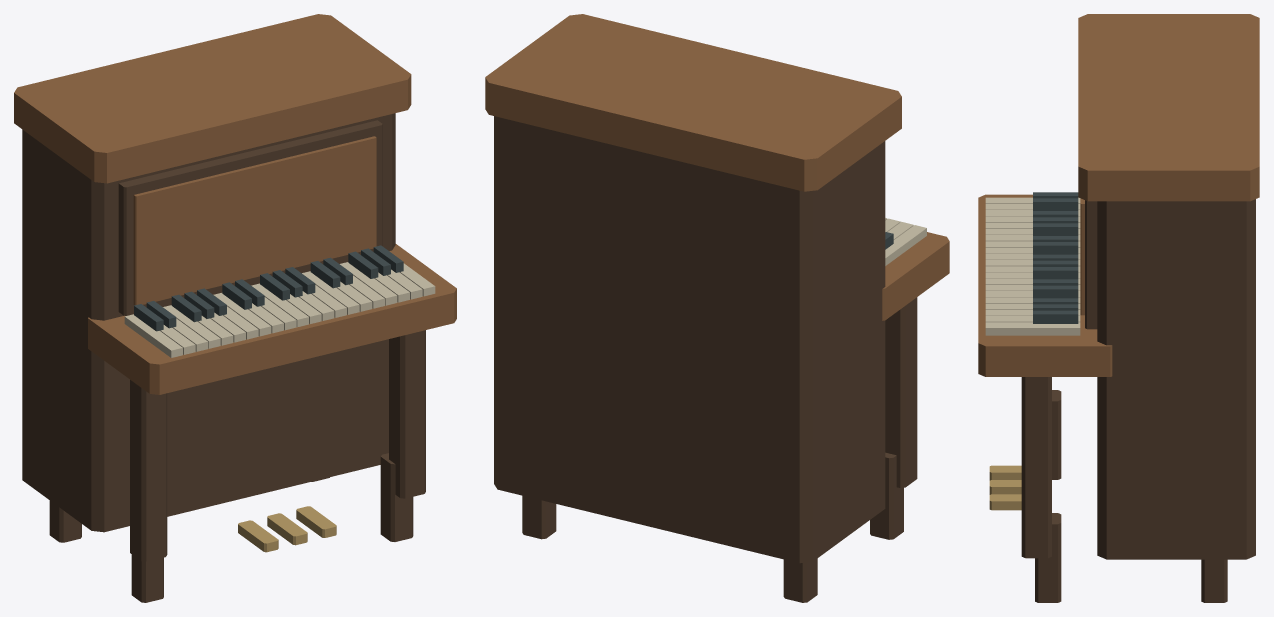
The model's file is piano_upright.glb.
3 views of the same model, side by side, from view 1: azimuth 30°, elevation 25°; view 2: azimuth 150°, elevation 25°; view 3: azimuth 270°, elevation 25° (orthographic). The views are drawn at different scales.
Parts seen in each view (by area): view 1: geometry; view 2: geometry; view 3: geometry.
Boxes of the visible parts, box(x1,y1,x2,y2) form: geometry: box(14, 14, 456, 602); geometry: box(485, 14, 949, 602); geometry: box(978, 14, 1259, 602).
Bounding box in the file's own units: 0.98 × 1.29 × 0.745.
